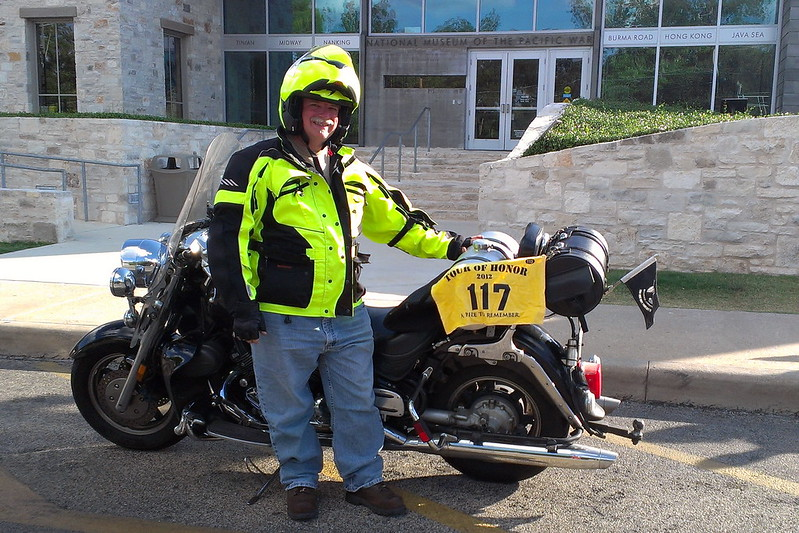helmet: (277, 53, 358, 126)
